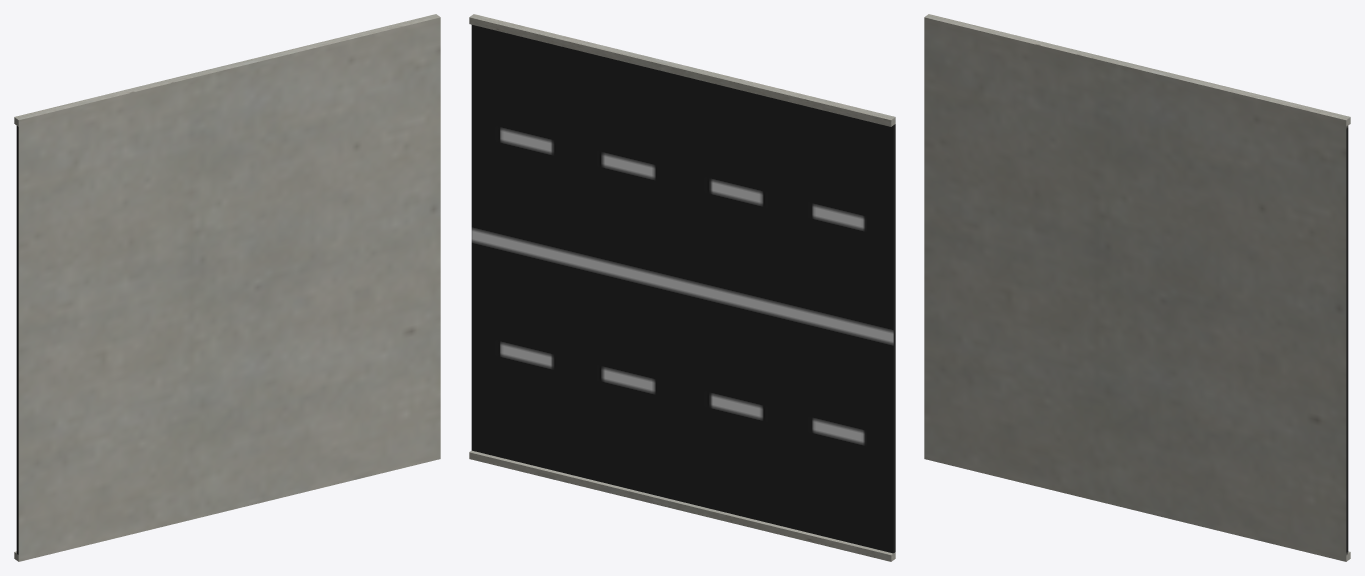
File: asphalt-road-double-block-subwalk-4m.obj
3 views of the same model, side by side, from view 1: azimuth 30°, elevation 25°; view 2: azimuth 150°, elevation 25°; view 3: azimuth 330°, elevation 25° (orthographic).
Visible parts, largest first — view 1: asphalt-road-double-block-subwalk-4m_Plane.049; view 2: asphalt-road-double-block-subwalk-4m_Plane.049; view 3: asphalt-road-double-block-subwalk-4m_Plane.049.
Boxes of the visible parts, x1,y1,x2,y2 form: asphalt-road-double-block-subwalk-4m_Plane.049: [14, 14, 440, 561]; asphalt-road-double-block-subwalk-4m_Plane.049: [469, 14, 895, 561]; asphalt-road-double-block-subwalk-4m_Plane.049: [924, 14, 1350, 561].
Size of the model in its own units: 8 by 8 by 0.15.
